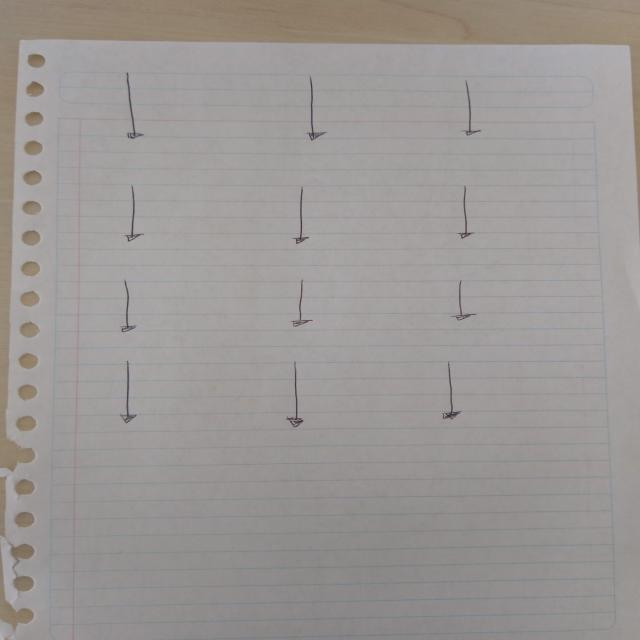arrow_line_down: (120, 180, 158, 247), (434, 361, 472, 425), (111, 74, 147, 140), (304, 69, 333, 146), (286, 183, 317, 249), (461, 78, 490, 147), (112, 280, 148, 334), (280, 361, 306, 434), (283, 276, 317, 328), (450, 186, 479, 244), (447, 283, 485, 325), (117, 363, 139, 428)
